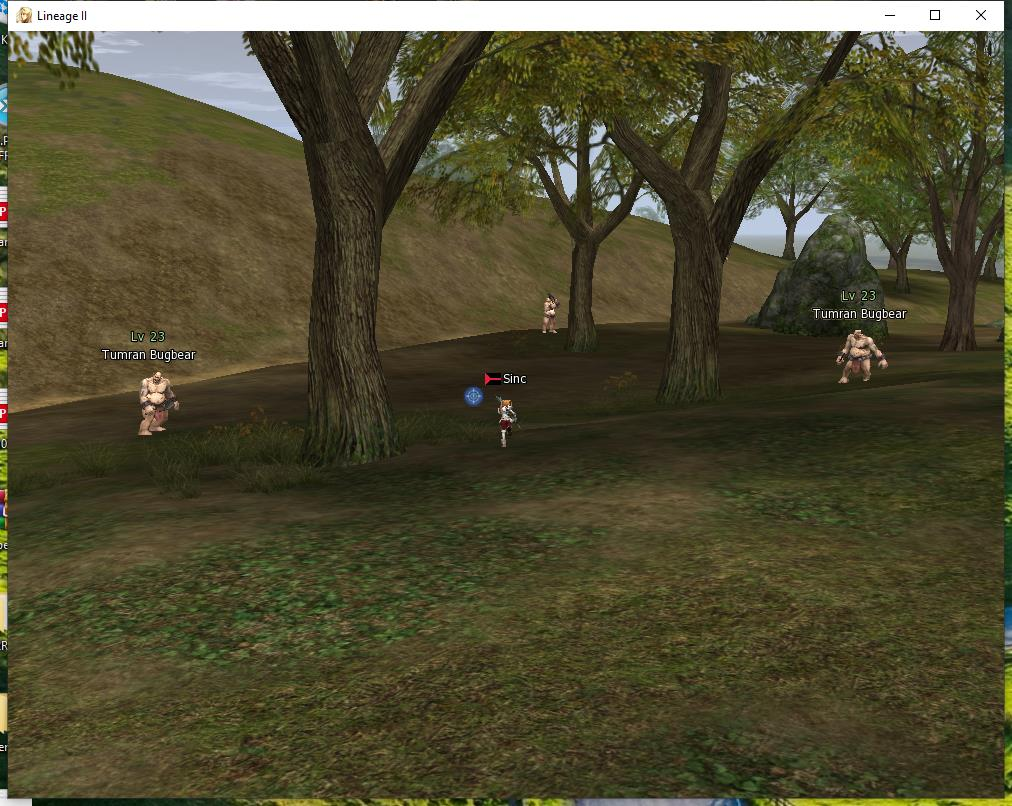monster: (96, 328, 202, 440), (809, 279, 912, 390), (532, 283, 565, 337)
